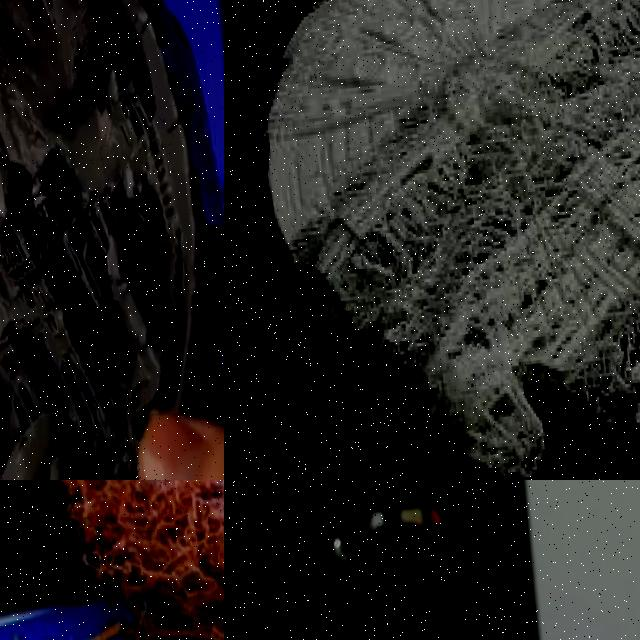spaghetti: (451, 270, 640, 480)
